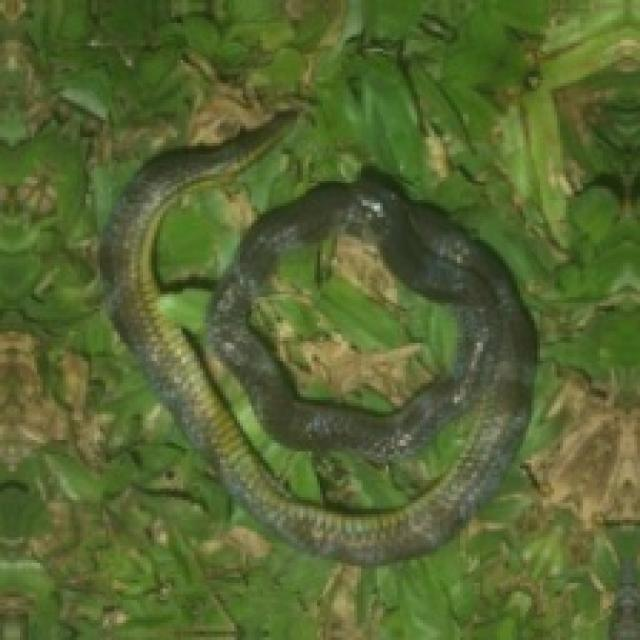gervais worm snake: (100, 111, 534, 560)
